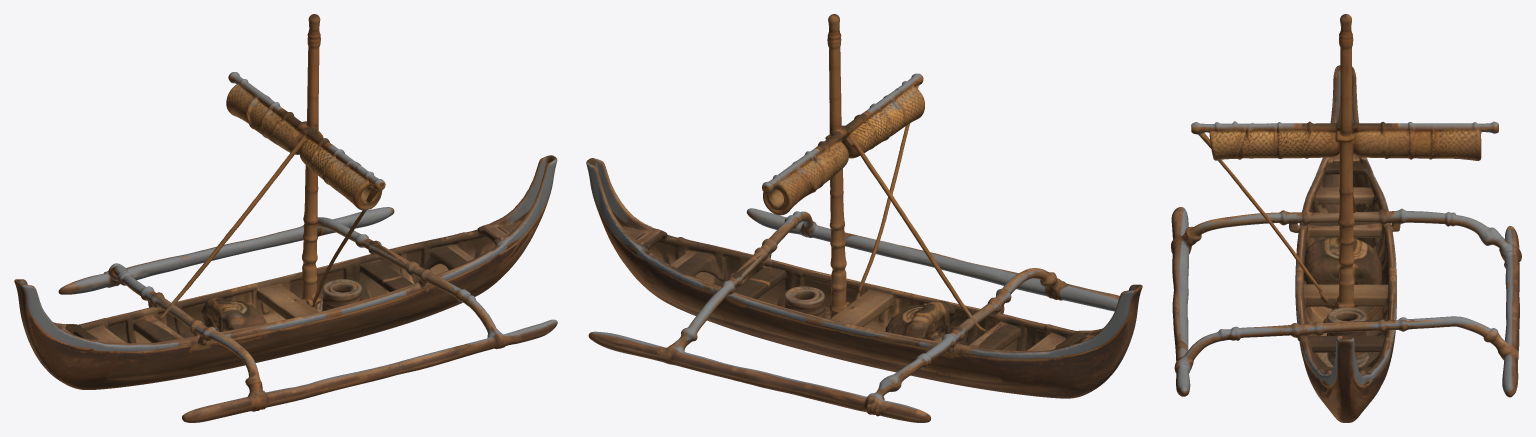
The model's file is perahu-tripo.glb.
The picture shows the model from 3 angles, left to right: view 1: azimuth 30°, elevation 25°; view 2: azimuth 150°, elevation 25°; view 3: azimuth 270°, elevation 25°; orthographic projection. The views are drawn at different scales.
Visible parts, largest first — view 1: tripo_node_e840e82d-da60-4c1a-8481-7f446f1ef78f; view 2: tripo_node_e840e82d-da60-4c1a-8481-7f446f1ef78f; view 3: tripo_node_e840e82d-da60-4c1a-8481-7f446f1ef78f.
Boxes of the visible parts, x1,y1,x2,y2 form: tripo_node_e840e82d-da60-4c1a-8481-7f446f1ef78f: [14, 14, 557, 422]; tripo_node_e840e82d-da60-4c1a-8481-7f446f1ef78f: [586, 14, 1142, 422]; tripo_node_e840e82d-da60-4c1a-8481-7f446f1ef78f: [1171, 14, 1521, 422].
Bounding box in the file's own units: 1 × 0.584 × 0.5504.
Materials: 1 (1 with a texture image).
